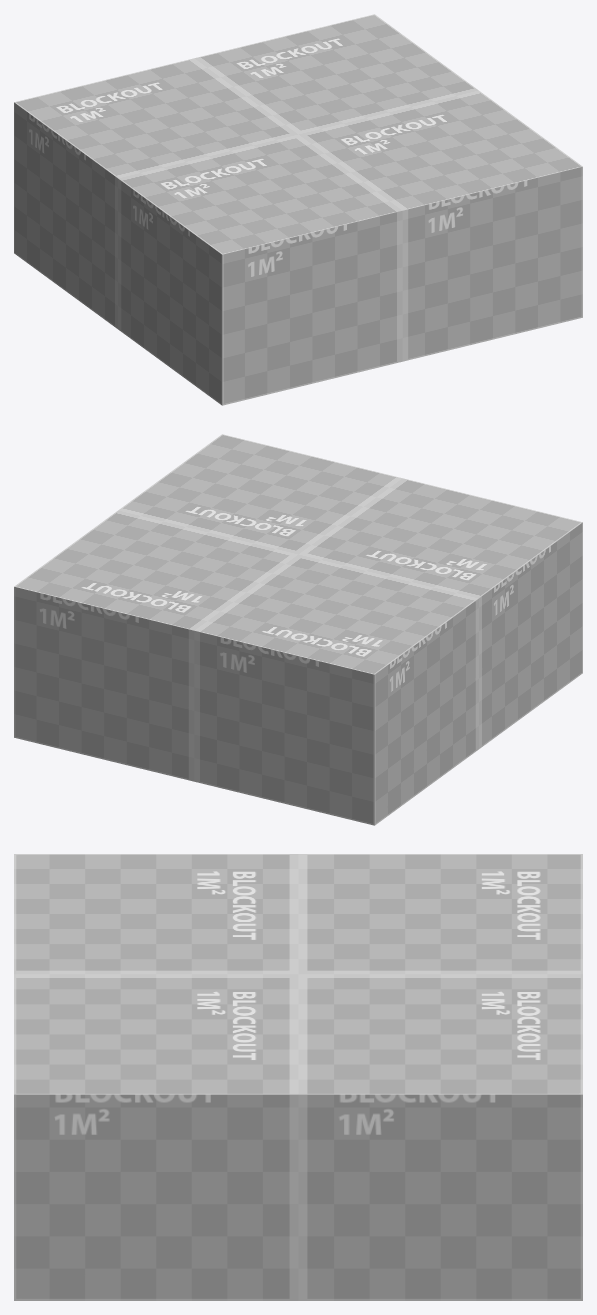
The model's file is BlockoutFloorShallow02.fbx.
The picture shows the model from 3 angles, top to bottom: view 1: azimuth 30°, elevation 25°; view 2: azimuth 150°, elevation 25°; view 3: azimuth 270°, elevation 25°; orthographic projection. The views are drawn at different scales.
Visible parts, largest first — view 1: BlockoutFloorShallow02; view 2: BlockoutFloorShallow02; view 3: BlockoutFloorShallow02.
Boxes of the visible parts, x1,y1,x2,y2 form: BlockoutFloorShallow02: (14, 14, 582, 405); BlockoutFloorShallow02: (14, 434, 582, 825); BlockoutFloorShallow02: (14, 854, 582, 1300).
Bounding box in the file's own units: 200 × 80 × 200.
